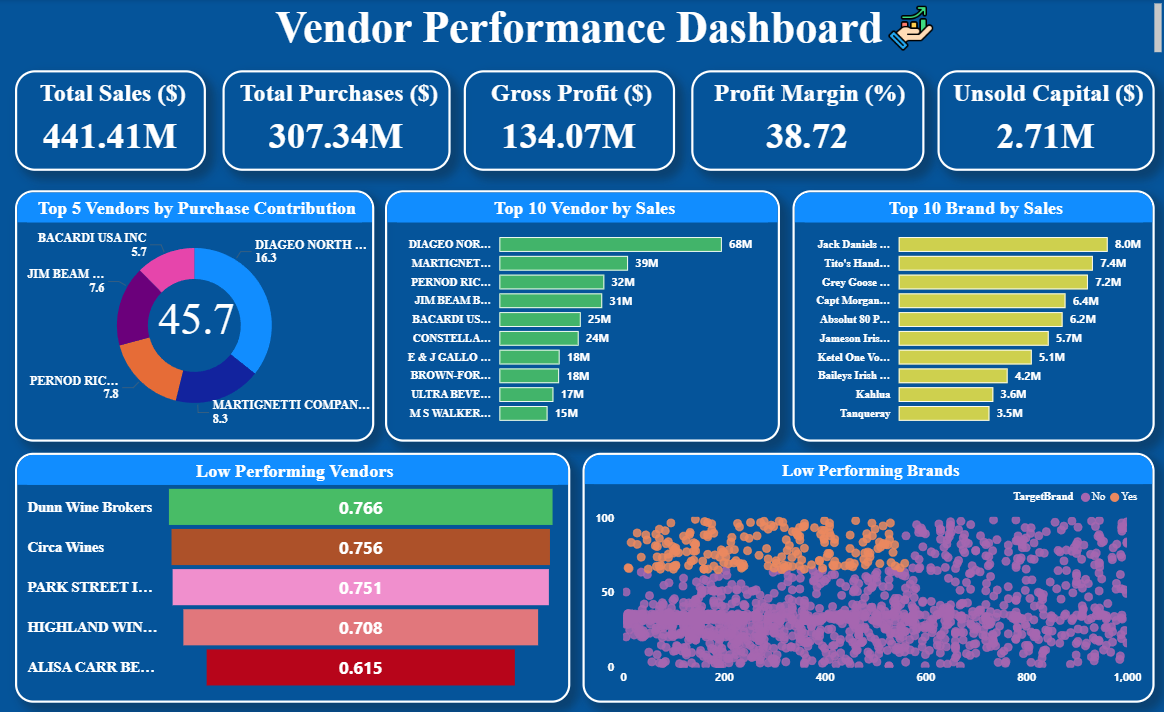

Layout of this report page (visuals, bound fields, positions):
{"tool":"powerbi","page":{"name":"Page 2","canvas":[1280,785],"ordinal":0},"visuals":[{"type":"card","title":"Total Sales ($)","fields":{"Values":["Sum(vendor_sales_summary.TotalSalesDollars)"]},"box":[16.9,77.9,209.9,110.1],"z":0},{"type":"card","title":"Total Purchases ($)","fields":{"Values":["Sum(vendor_sales_summary.TotalPurchaseDollars)"]},"box":[243.8,77.9,250.6,110.1],"z":1000},{"type":"card","title":"Gross Profit ($)","fields":{"Values":["Sum(vendor_sales_summary.GrossProfit)"]},"box":[509.6,77.9,232,110.1],"z":2000},{"type":"card","title":" Profit Margin (%)","fields":{"Values":["Avg(vendor_sales_summary.ProfitMargin)","select"]},"box":[758.5,77.9,255.7,110.1],"z":3000},{"type":"card","title":"Unsold Capital ($)","fields":{"Values":["Sum(vendor_sales_summary.UnsoldCapital)"]},"box":[1029.4,77.9,238.7,110.1],"z":4000},{"type":"donutChart","title":"Top 5 Vendors by Purchase Contribution","fields":{"Category":["PurchaseContribution.VendorName"],"Y":["Sum(PurchaseContribution.PurchaseContribution%)"]},"box":[16.9,209.9,394.5,276],"z":5000},{"type":"card","fields":{"Values":["Sum(PurchaseContribution.PurchaseContribution%)"]},"box":[121.9,260.7,187.9,174.4],"z":6000},{"type":"barChart","title":"Top 10 Vendor by Sales","fields":{"Category":["vendor_sales_summary.VendorName"],"Y":["Sum(vendor_sales_summary.TotalSalesDollars)"]},"box":[423.3,209.9,433.4,276],"z":7000},{"type":"barChart","title":"Top 10 Brand by Sales","fields":{"Category":["vendor_sales_summary.Description"],"Y":["Sum(vendor_sales_summary.TotalSalesDollars)"]},"box":[870.3,209.9,397.9,276],"z":8000},{"type":"funnel","title":"Low Performing Vendors","fields":{"Y":["Avg(LowTurnoverVendor.AvgStockTurnOver)"],"Category":["LowTurnoverVendor.VendorName"]},"box":[16.9,497.8,609.5,274.3],"z":9000},{"type":"scatterChart","title":"Low Performing Brands","fields":{"Category":["BrandPerformance.Description"],"X":["Sum(BrandPerformance.TotalSales)"],"Y":["Sum(BrandPerformance.AvgProfitMargin)"],"Series":["BrandPerformance.TargetBrand"]},"box":[640,497.8,628.1,274.3],"z":10000},{"type":"textbox","box":[0,0,1280,64.3],"z":10001},{"type":"image","box":[954.9,0,89.7,64.3],"z":10002}]}

Visuals, with their boxes in screenshot pixels (x1, y1, x2, y2), scaled from the page's 1280x785 canvas onto the 1164x712 screenshot:
"Total Sales ($)" card: region(15, 71, 206, 171)
"Total Purchases ($)" card: region(222, 71, 450, 171)
"Gross Profit ($)" card: region(463, 71, 674, 171)
" Profit Margin (%)" card: region(690, 71, 922, 171)
"Unsold Capital ($)" card: region(936, 71, 1153, 171)
"Top 5 Vendors by Purchase Contribution" donutChart: region(15, 190, 374, 441)
card - Sum(PurchaseContribution.PurchaseContribution%): region(111, 236, 282, 395)
"Top 10 Vendor by Sales" barChart: region(385, 190, 779, 441)
"Top 10 Brand by Sales" barChart: region(791, 190, 1153, 441)
"Low Performing Vendors" funnel: region(15, 452, 570, 700)
"Low Performing Brands" scatterChart: region(582, 452, 1153, 700)
textbox: region(0, 0, 1163, 58)
image: region(868, 0, 950, 58)
